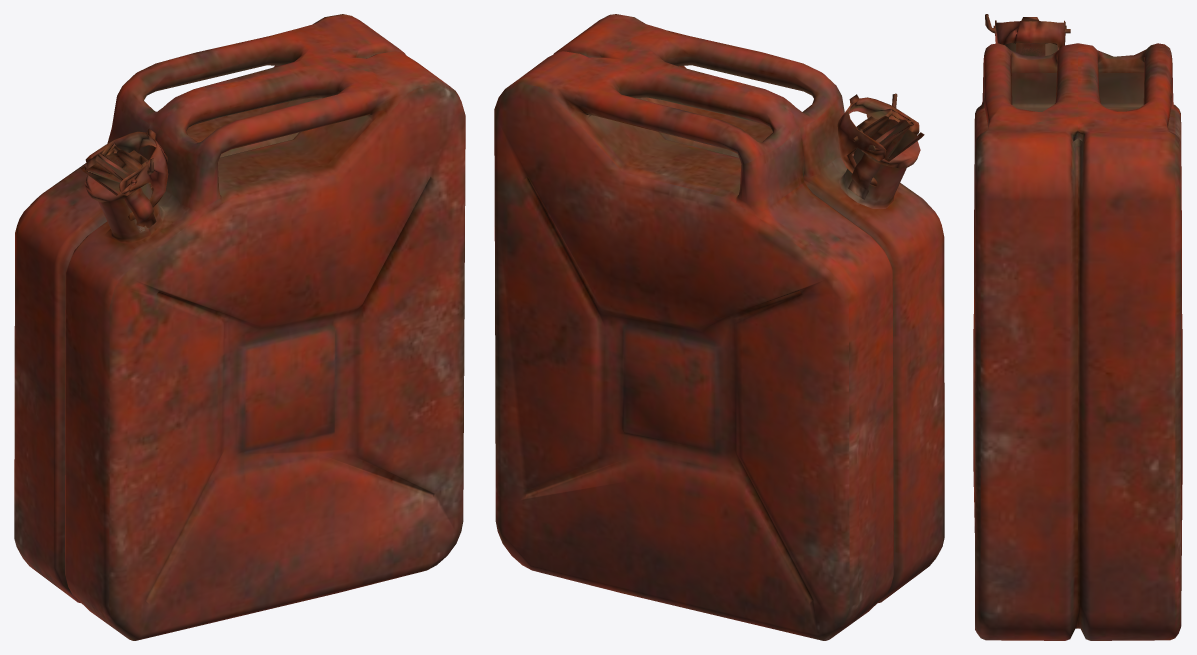
The model's file is jerrycan-vfulokmt.glb.
3 renders of one model, left to right at view 1: azimuth 30°, elevation 25°; view 2: azimuth 150°, elevation 25°; view 3: azimuth 270°, elevation 25°, orthographic. The views are drawn at different scales.
Visible parts, largest first — view 1: metal_jerrycan; view 2: metal_jerrycan; view 3: metal_jerrycan.
Part boxes in pixels (bbox=[...]): metal_jerrycan: bbox=[14, 14, 465, 640]; metal_jerrycan: bbox=[494, 14, 944, 640]; metal_jerrycan: bbox=[973, 14, 1182, 640].
Size of the model in its own units: 0.3492 by 0.4548 by 0.1717.
1 material, 1 textured.
